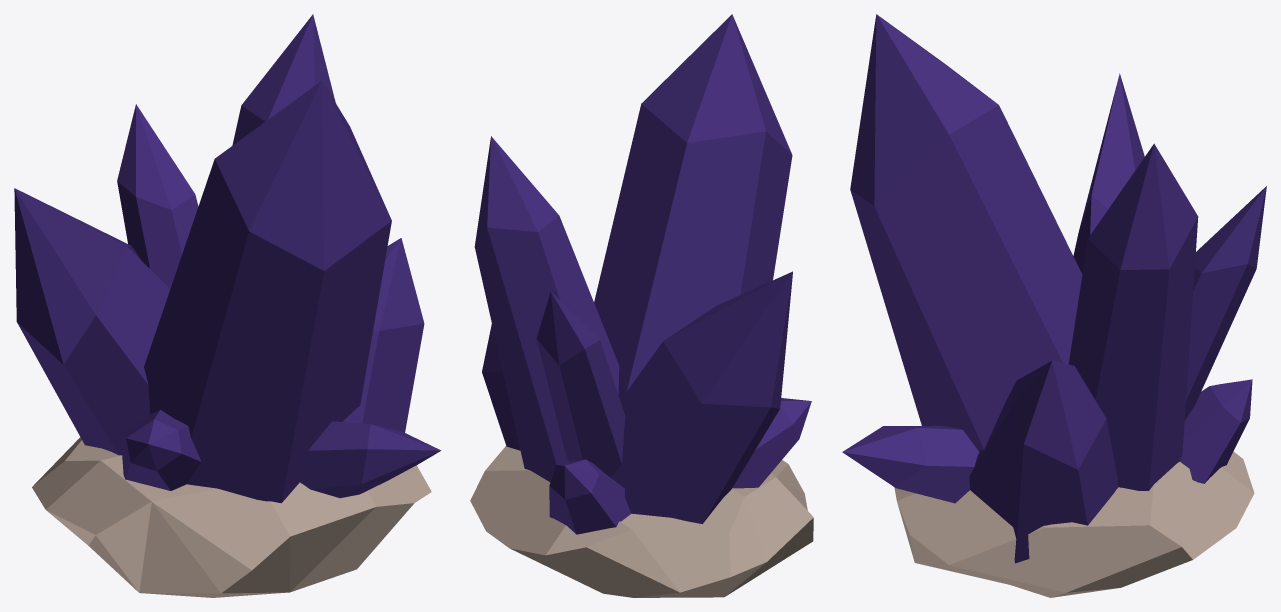
The model's file is cristaux_v1.fbx.
3 renders of one model, left to right at view 1: azimuth 30°, elevation 25°; view 2: azimuth 150°, elevation 25°; view 3: azimuth 270°, elevation 25°, orthographic. The views are drawn at different scales.
Parts seen in each view (by area): view 1: Cylinder.009; view 2: Cylinder.009; view 3: Cylinder.009.
Boxes of the visible parts, x1,y1,x2,y2 form: Cylinder.009: (14,14,441,597); Cylinder.009: (470,14,813,597); Cylinder.009: (842,14,1266,597).
Size of the model in its own units: 300 by 425 by 300.
